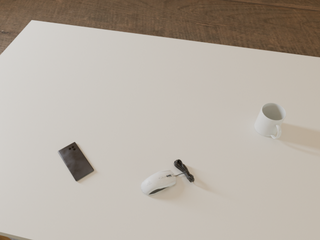cup: (255, 103, 286, 139)
mouse: (141, 170, 176, 195)
phone: (58, 142, 94, 181)
